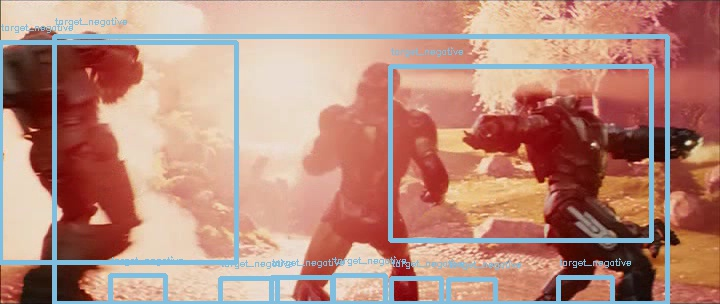person: (359, 66, 401, 103), (358, 66, 400, 103), (360, 66, 402, 103), (359, 65, 401, 102), (359, 67, 401, 104)
target_negative: (588, 201, 664, 270), (295, 190, 344, 290), (700, 84, 717, 218), (468, 282, 676, 286), (18, 67, 113, 71)
